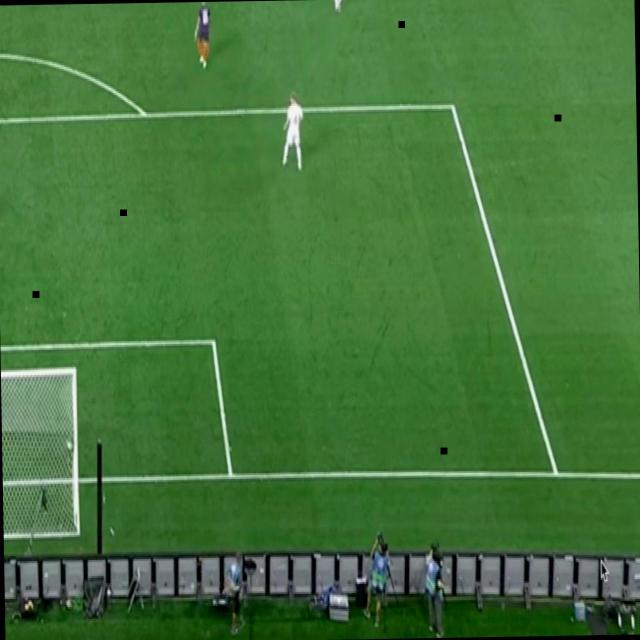player-white: (278, 87, 305, 172), (191, 2, 213, 76), (328, 0, 350, 16)
